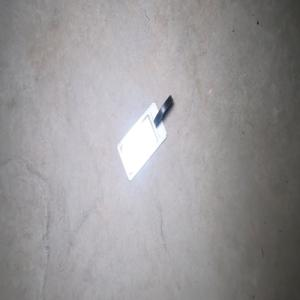LuggageTag: (116, 93, 173, 182)
